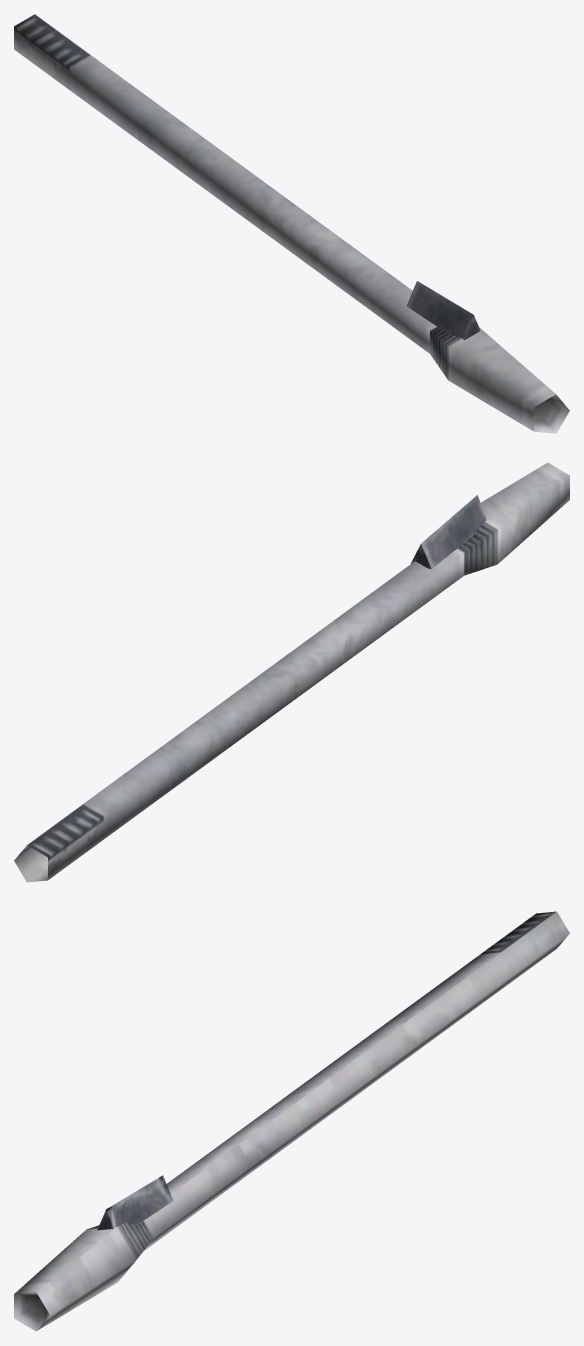
File: spacestation_turret_barrel02_s01_l1.fbx
The picture shows the model from 3 angles, top to bottom: view 1: azimuth 30°, elevation 25°; view 2: azimuth 150°, elevation 25°; view 3: azimuth 330°, elevation 25°; orthographic projection.
Parts seen in each view (by area): view 1: mesh_node; view 2: mesh_node; view 3: mesh_node.
Part boxes in pixels (x1=…): mesh_node: x1=14, y1=14, x2=569, y2=433; mesh_node: x1=14, y1=462, x2=569, y2=882; mesh_node: x1=14, y1=911, x2=569, y2=1331.
Size of the model in its own units: 0.4892 by 0.6709 by 8.68.
